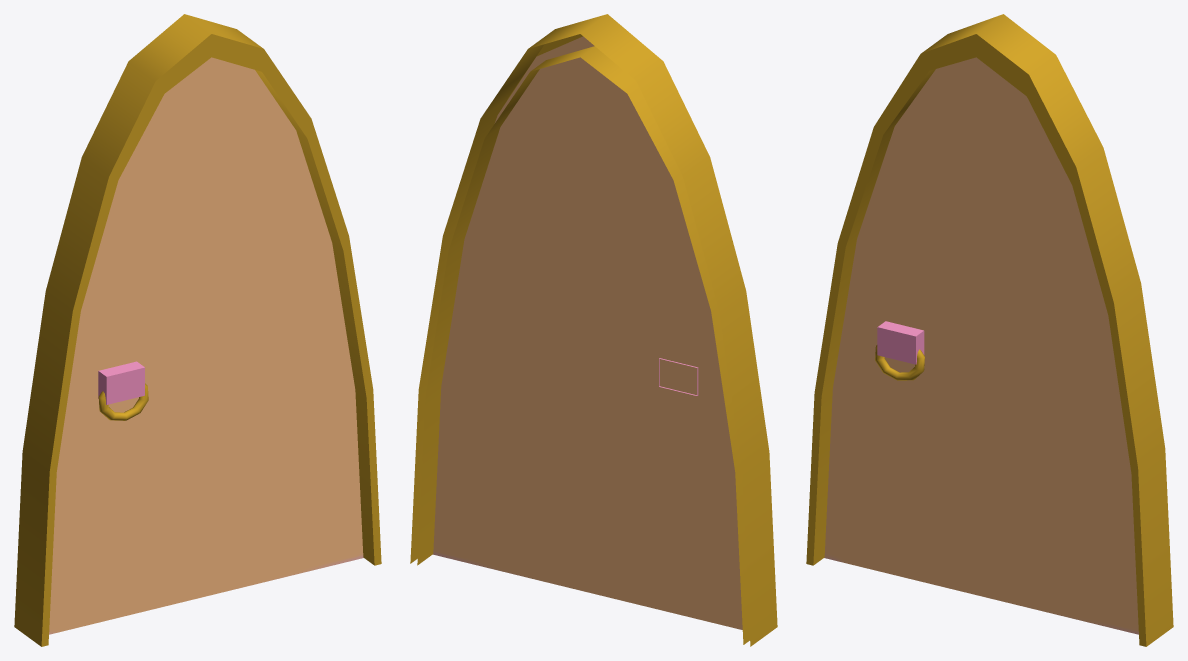
Rendered from Door.FBX.
3 renders of one model, left to right at view 1: azimuth 30°, elevation 25°; view 2: azimuth 150°, elevation 25°; view 3: azimuth 330°, elevation 25°, orthographic.
Parts seen in each view (by area): view 1: Puerta; view 2: Puerta; view 3: Puerta.
Boxes of the visible parts, box(x1,y1,x2,y2) form: Puerta: box(14, 14, 381, 646); Puerta: box(410, 14, 777, 646); Puerta: box(806, 14, 1173, 646).
Bounding box in the file's own units: 1.75 × 0.242 × 2.81.
